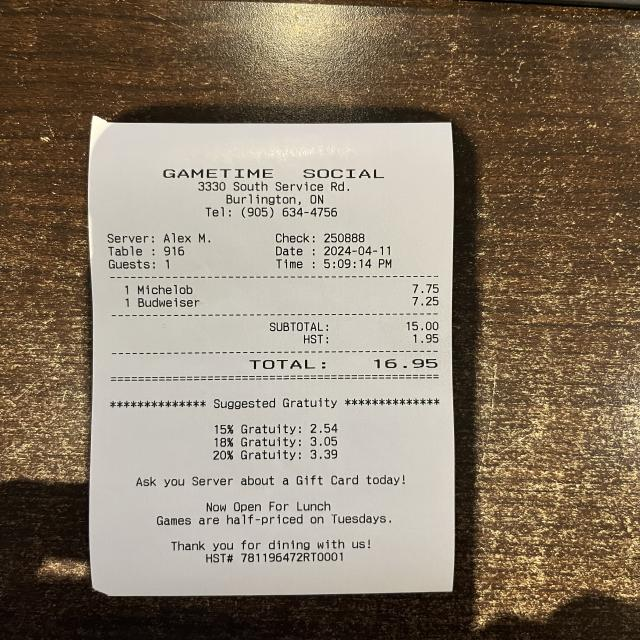item: (133, 278, 444, 298), (134, 295, 444, 311)
store_name: (156, 162, 392, 185)
total_amount: (246, 353, 444, 376)
transaction_date: (316, 243, 399, 259)
